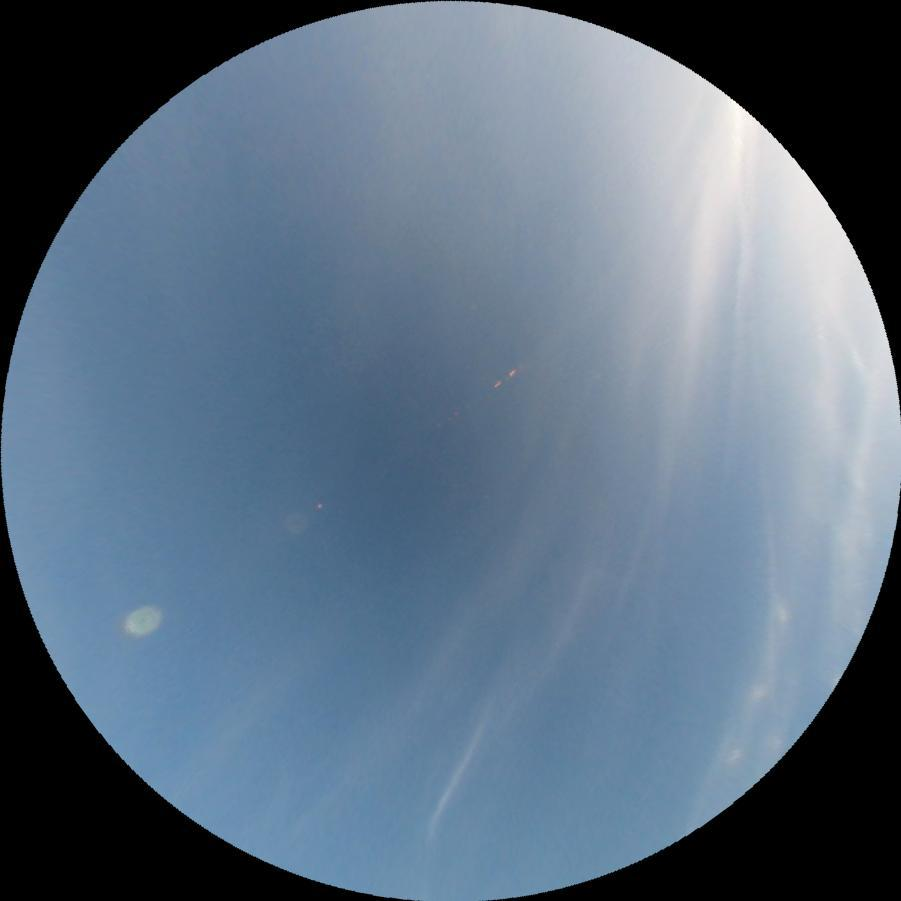contrail old: (715, 173, 755, 491)
